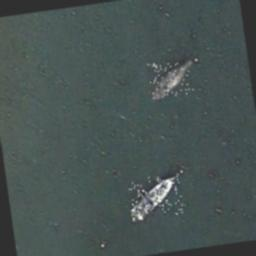boat: (127, 172, 184, 220), (147, 58, 195, 100)
